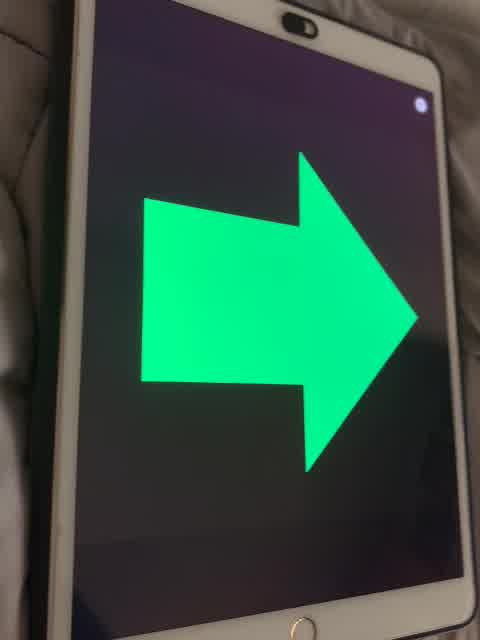right: (140, 146, 422, 480)
